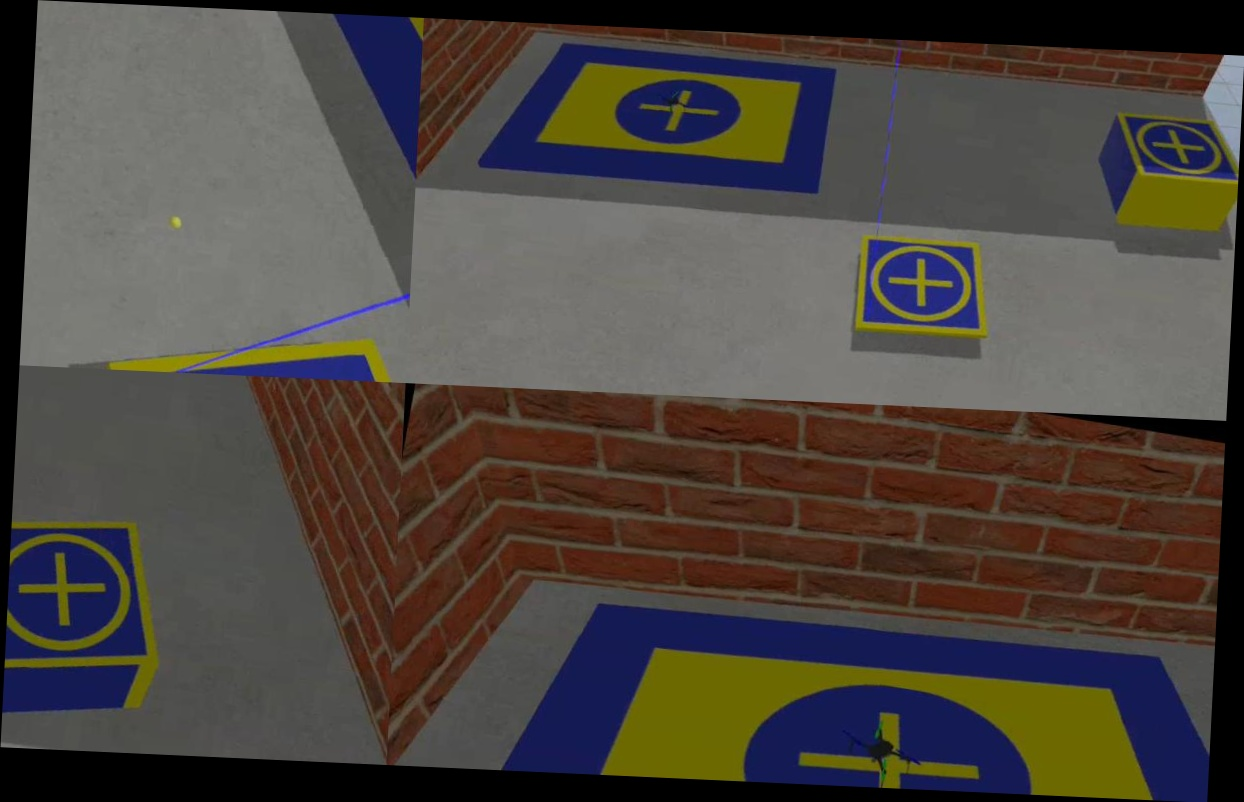large_base: (392, 529, 1218, 802), (479, 21, 845, 224), (151, 6, 424, 237)
small_base: (3, 498, 187, 700), (97, 293, 409, 383), (844, 224, 1004, 354), (1104, 103, 1241, 196)
